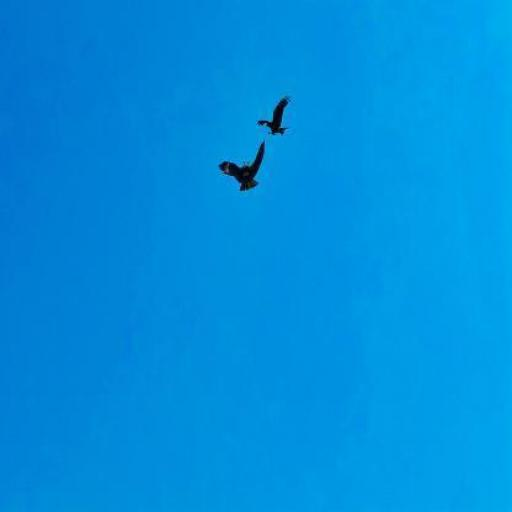bird: (219, 140, 266, 192), (258, 96, 290, 137)
